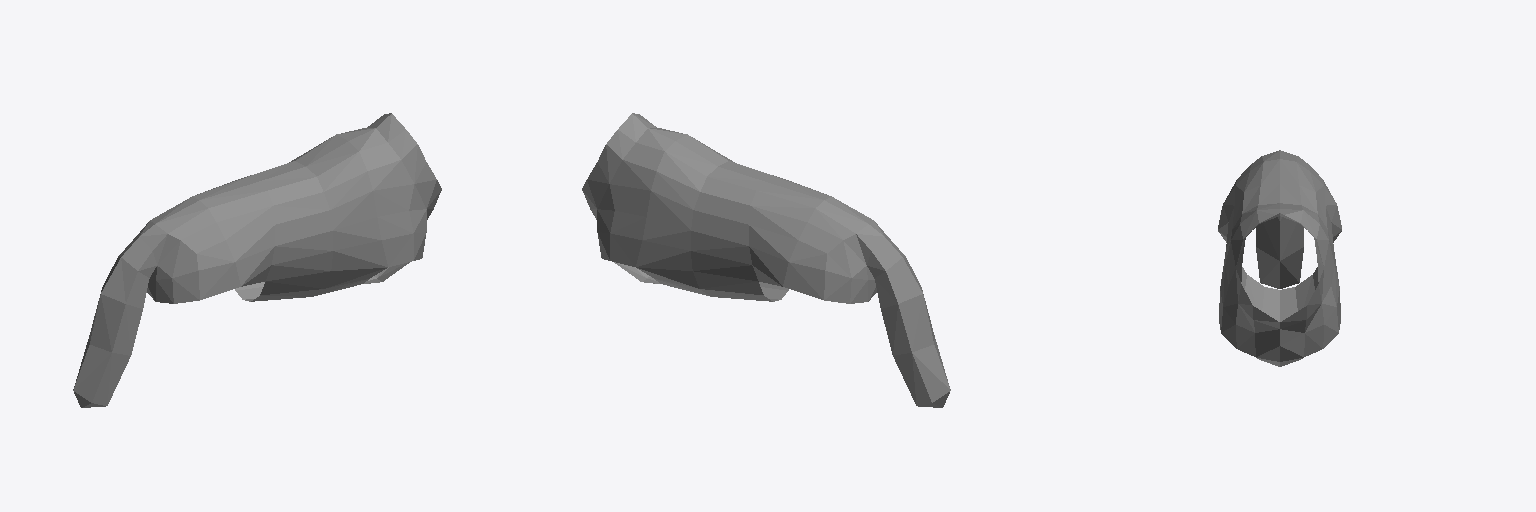
Rendered from WolfBod.obj.
3 renders of one model, left to right at view 1: azimuth 30°, elevation 25°; view 2: azimuth 150°, elevation 25°; view 3: azimuth 270°, elevation 25°, orthographic.
Visible parts, largest first — view 1: WolfBod; view 2: WolfBod; view 3: WolfBod.
Boxes of the visible parts, <box> form: WolfBod: <box>73,113,441,407</box>; WolfBod: <box>582,113,950,407</box>; WolfBod: <box>1218,150,1341,366</box>.
Size of the model in its own units: 9.28 by 5.31 by 2.75.